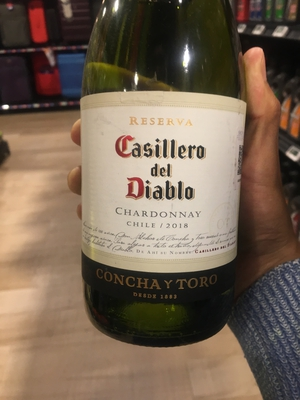casillero del diablo chardonnay: (79, 10, 251, 349)
